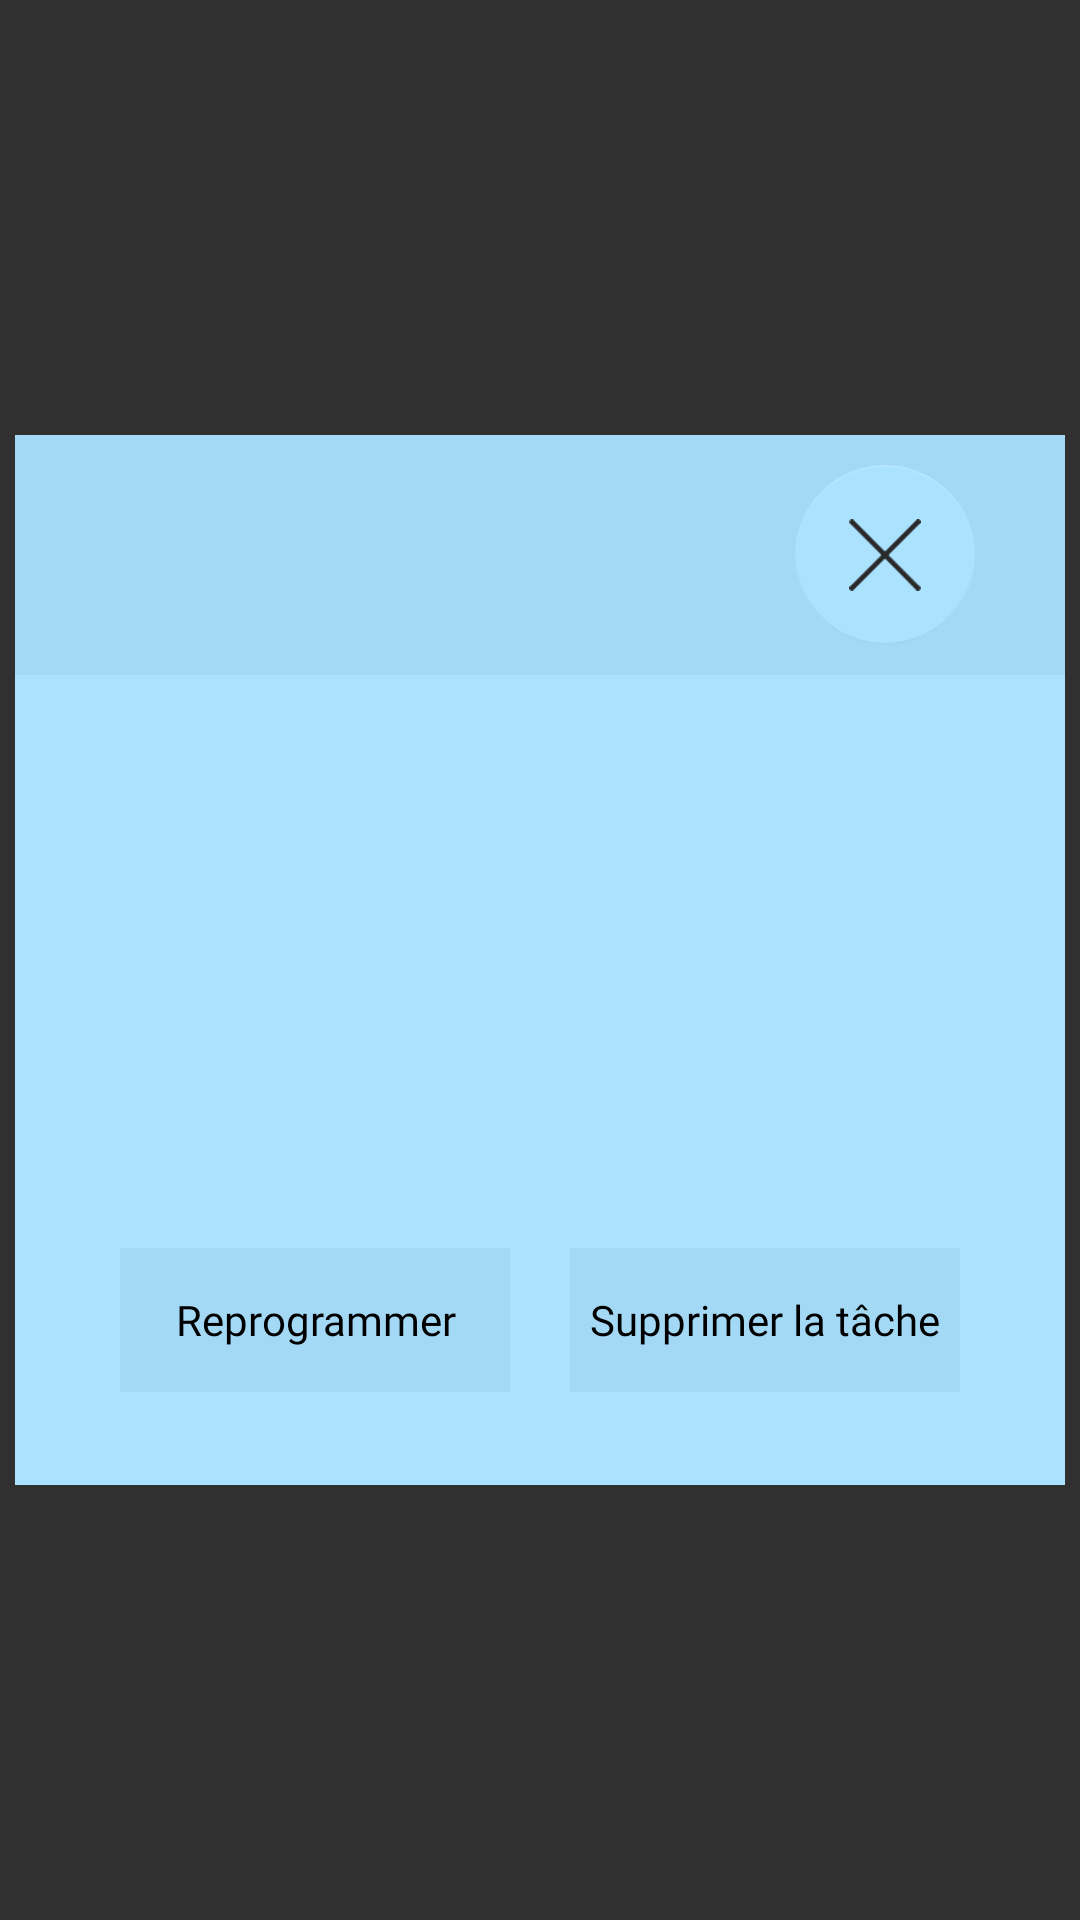

Locate icon controls on the screen. Image size 1080 x 1920, boxes as [left=x1, top=y1, right=x2, bottom=y2].
Fermer: [left=795, top=465, right=975, bottom=643]
